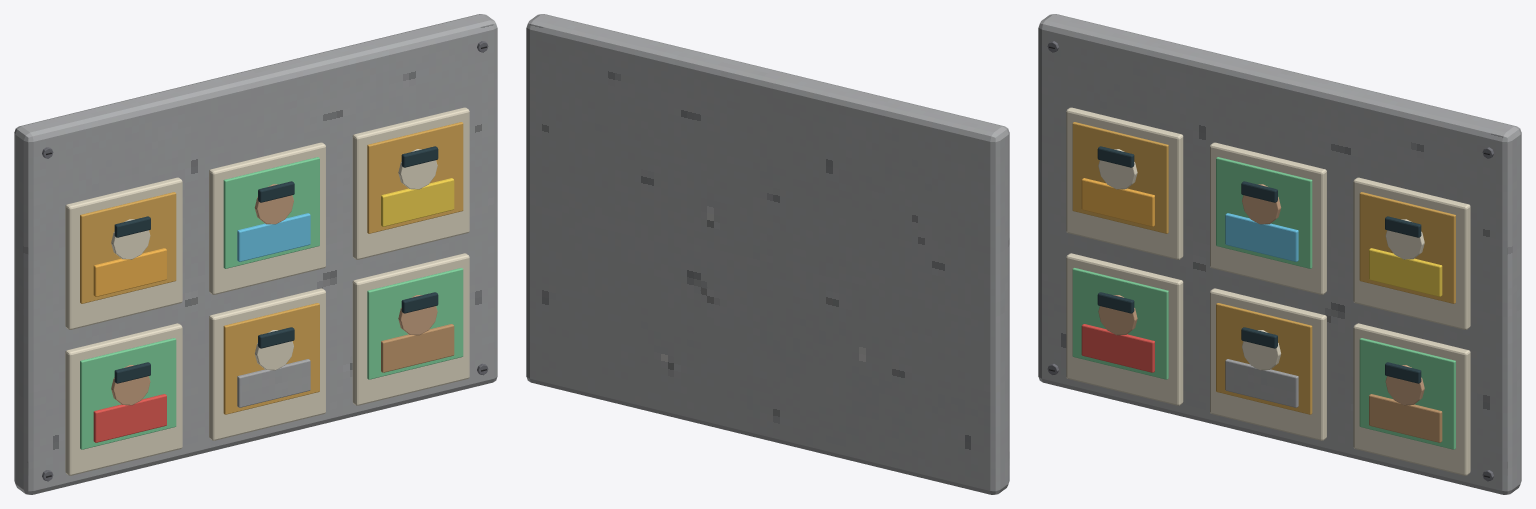
File: lbd_crew_portraits.glb
3 views of the same model, side by side, from view 1: azimuth 30°, elevation 25°; view 2: azimuth 150°, elevation 25°; view 3: azimuth 330°, elevation 25° (orthographic).
Visible parts, largest first — view 1: crew_portraits__mount_003, crew_portraits__print border_048, crew_portraits__print border_087, crew_portraits__print border_061, crew_portraits__print border_022, crew_portraits__print border_035, crew_portraits__print border_074, crew_portraits__portrait background_038, crew_portraits__portrait background_077, crew_portraits__portrait background_025, crew_portraits__portrait background_051, crew_portraits__portrait background_064 (+19 smaller); view 2: crew_portraits__mount_003; view 3: crew_portraits__mount_003, crew_portraits__print border_022, crew_portraits__print border_061, crew_portraits__print border_087, crew_portraits__print border_048, crew_portraits__print border_035, crew_portraits__print border_074, crew_portraits__portrait background_038, crew_portraits__portrait background_077, crew_portraits__portrait background_025, crew_portraits__portrait background_051, crew_portraits__portrait background_090 (+19 smaller).
Part boxes in pixels (x1,y1,x2,y2): crew_portraits__mount_003: [14, 14, 497, 494]; crew_portraits__print border_048: [352, 107, 469, 259]; crew_portraits__print border_087: [352, 253, 469, 405]; crew_portraits__print border_061: [65, 323, 182, 475]; crew_portraits__print border_022: [65, 177, 182, 329]; crew_portraits__print border_035: [209, 142, 325, 294]; crew_portraits__print border_074: [209, 288, 325, 440]; crew_portraits__portrait background_038: [223, 157, 319, 268]; crew_portraits__portrait background_077: [223, 303, 319, 414]; crew_portraits__portrait background_025: [80, 192, 176, 303]; crew_portraits__portrait background_051: [367, 122, 463, 233]; crew_portraits__portrait background_064: [80, 338, 176, 449]; crew_portraits__mount_003: [526, 14, 1009, 494]; crew_portraits__mount_003: [1038, 14, 1521, 494]; crew_portraits__print border_022: [1066, 107, 1183, 259]; crew_portraits__print border_061: [1066, 253, 1183, 405]; crew_portraits__print border_087: [1353, 323, 1470, 475]; crew_portraits__print border_048: [1353, 177, 1470, 329]; crew_portraits__print border_035: [1210, 142, 1326, 294]; crew_portraits__print border_074: [1210, 288, 1326, 440]; crew_portraits__portrait background_038: [1216, 157, 1312, 268]; crew_portraits__portrait background_077: [1216, 303, 1312, 414]; crew_portraits__portrait background_025: [1072, 122, 1168, 233]; crew_portraits__portrait background_051: [1359, 192, 1455, 303]; crew_portraits__portrait background_090: [1359, 338, 1455, 449].
Bounding box in the file's own units: 1.12 × 0.82 × 0.122.
Materials: 14 (4 with a texture image).
